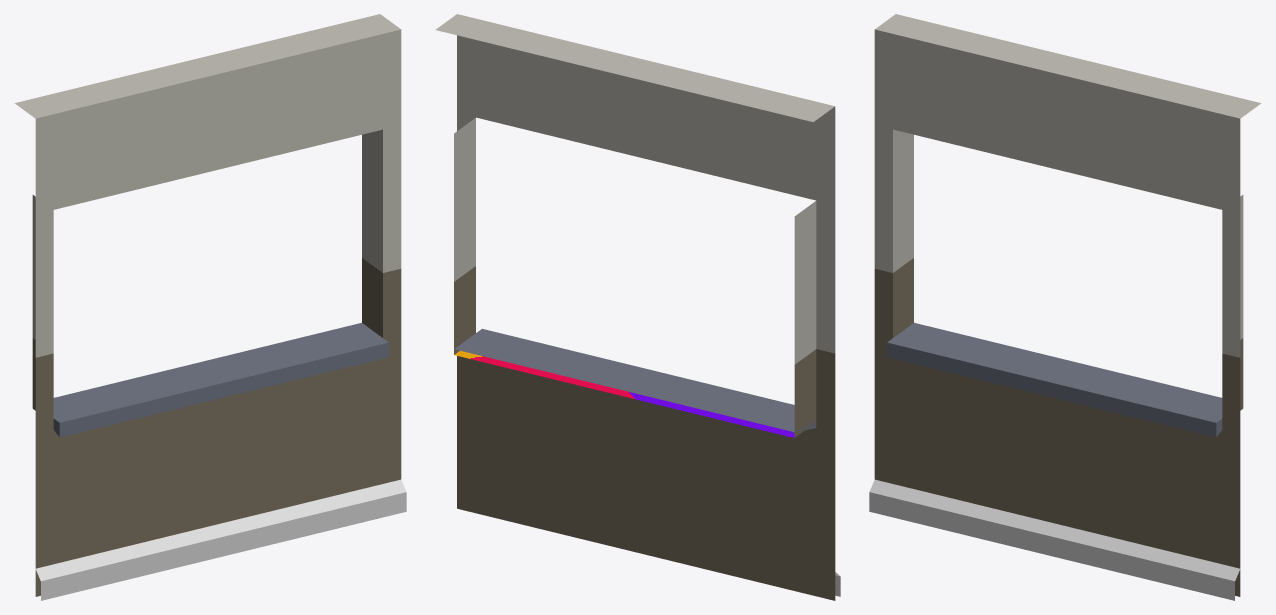
File: WallWindowFrame.fbx
3 renders of one model, left to right at view 1: azimuth 30°, elevation 25°; view 2: azimuth 150°, elevation 25°; view 3: azimuth 330°, elevation 25°, orthographic. The views are drawn at different scales.
Visible parts, largest first — view 1: WallWindowFrame; view 2: WallWindowFrame; view 3: WallWindowFrame.
Part boxes in pixels (bbox=[...]): WallWindowFrame: bbox=[14, 14, 406, 600]; WallWindowFrame: bbox=[435, 14, 840, 600]; WallWindowFrame: bbox=[869, 14, 1261, 600].
Size of the model in its own units: 2 by 2.5 by 0.2565.
